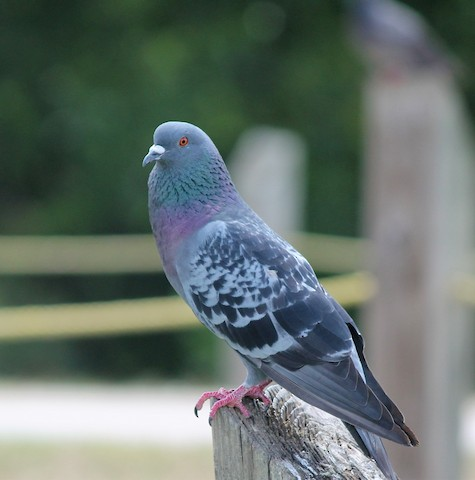pigeon: (138, 113, 424, 448)
